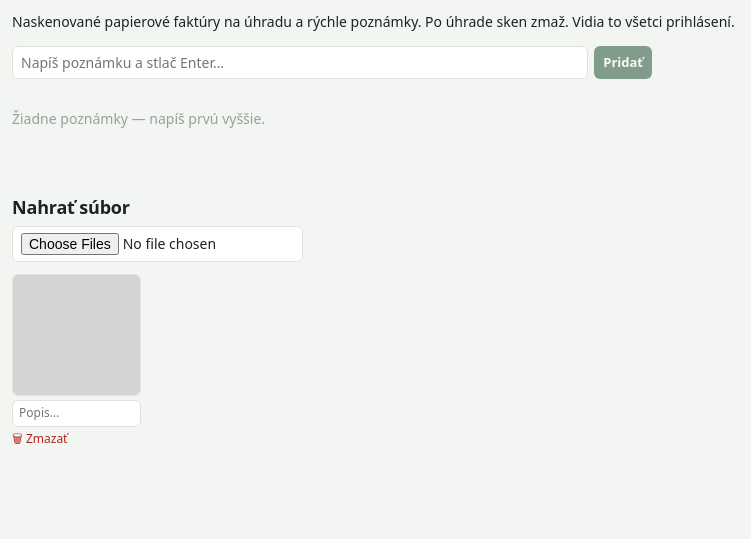
Zrušiť v potvrdení mazanie NEVYKONÁ
Click the button with test id "uhrady-delete-s-1" at (40, 439), box x1=12 y1=431 x2=68 y2=448
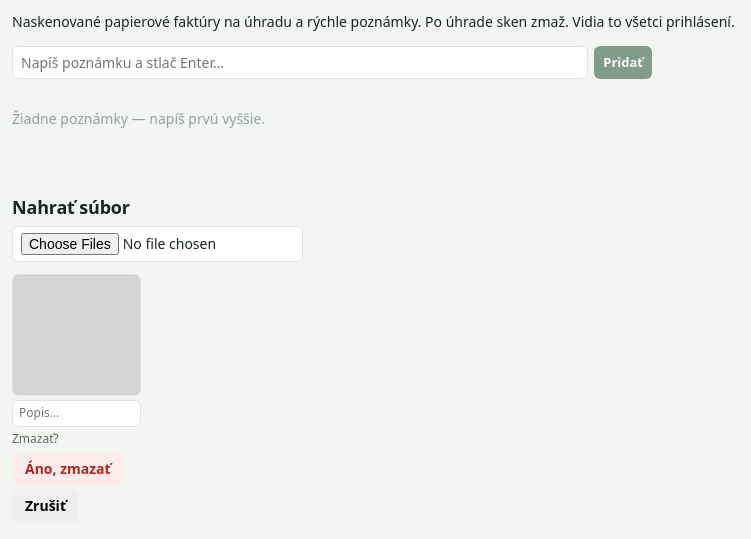
Click the button with test id "uhrady-confirm-no-s-1" at (46, 506), box x1=12 y1=489 x2=79 y2=523
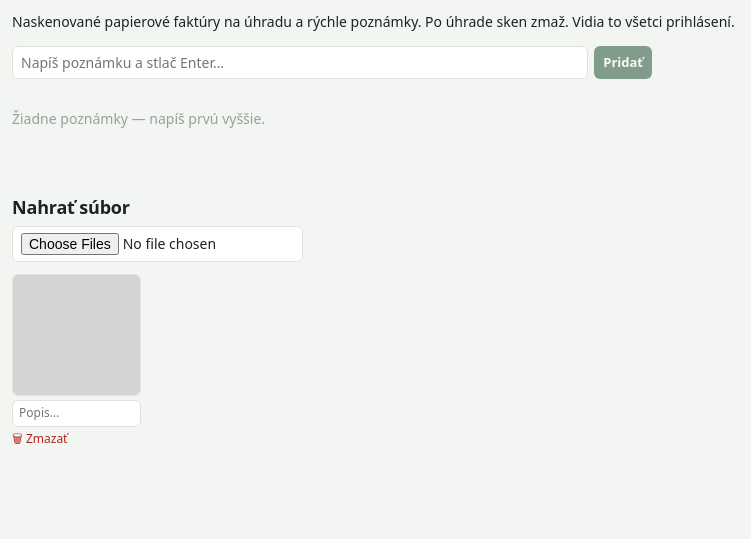
expect the button with test id "uhrady-delete-s-1" is shown: met, box x1=12 y1=431 x2=68 y2=448
